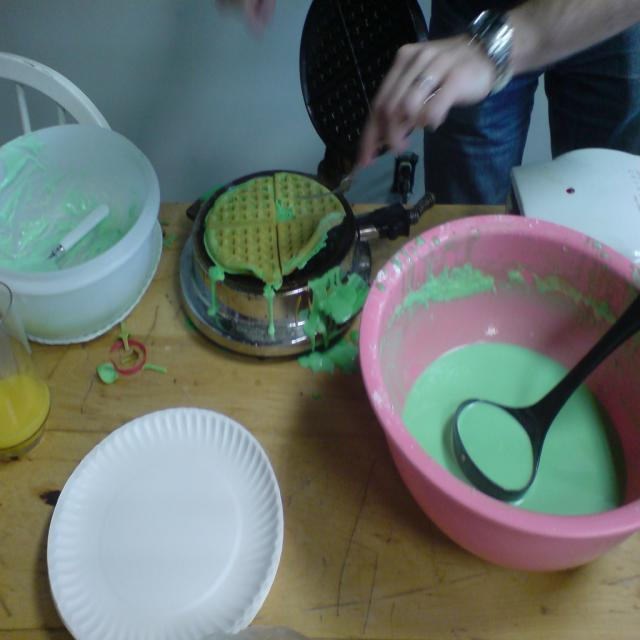Waffle: (202, 171, 351, 299)
